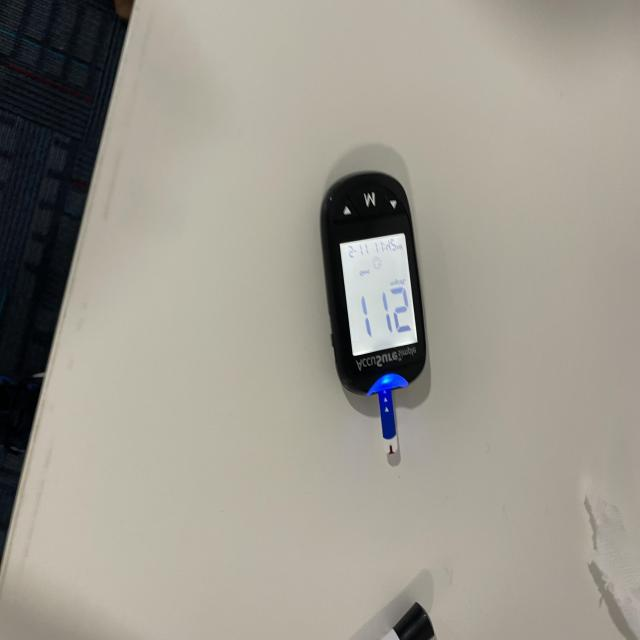gluco: (320, 146, 428, 462)
